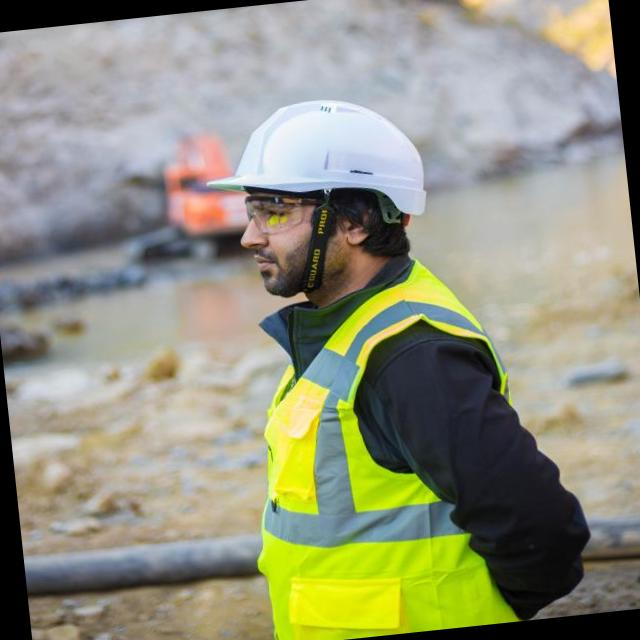Helmet: (175, 66, 470, 235)
Vest: (220, 256, 558, 640)
